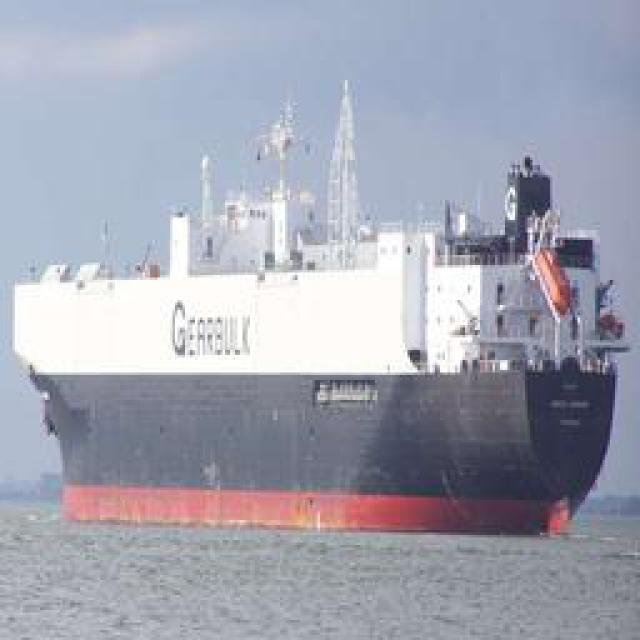Ship: (22, 58, 625, 536)
